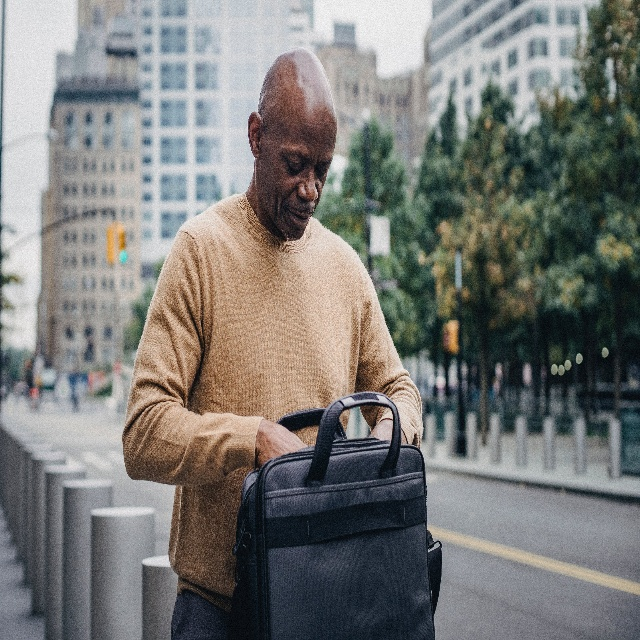Sin_guantes: (260, 418, 307, 465)
